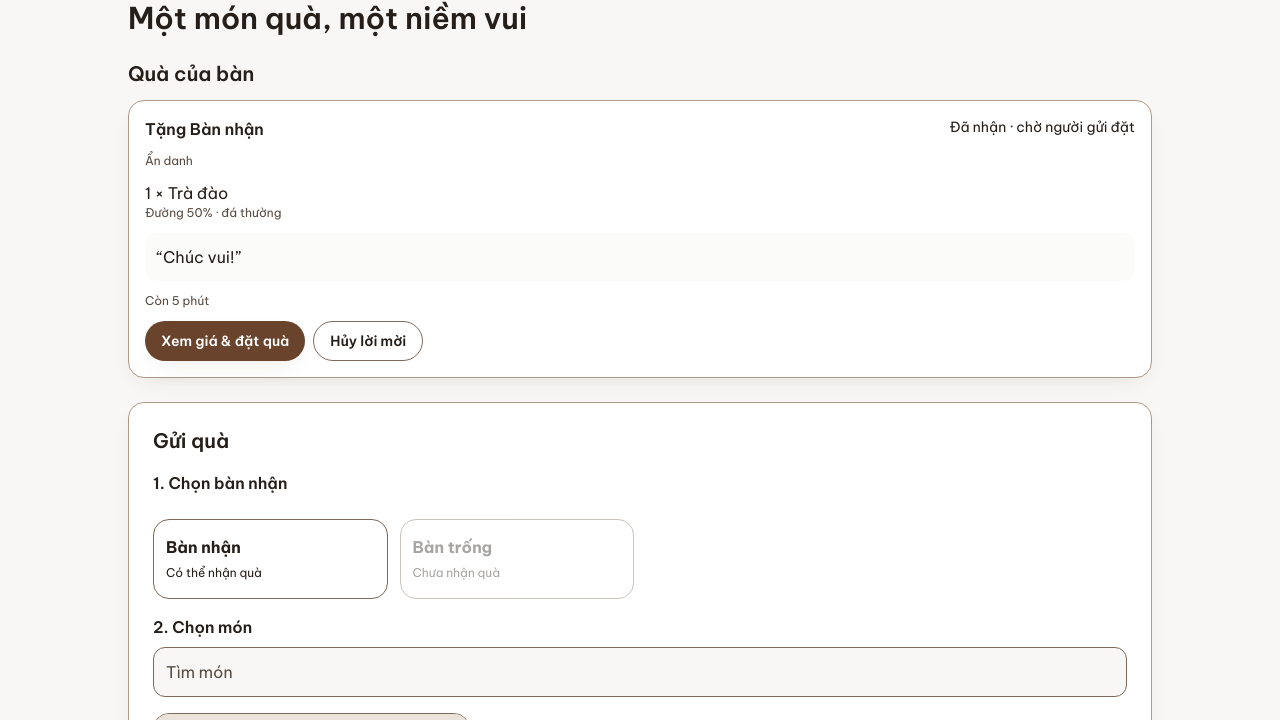
Test case: anonymous gift UI › quotes an accepted gift, displays the fresh price, and creates a sender order only after confirming it
Later steps or results of the test are not shown.
Click the button "Xem giá & đặt quà": (225, 341) [145,321,305,361]
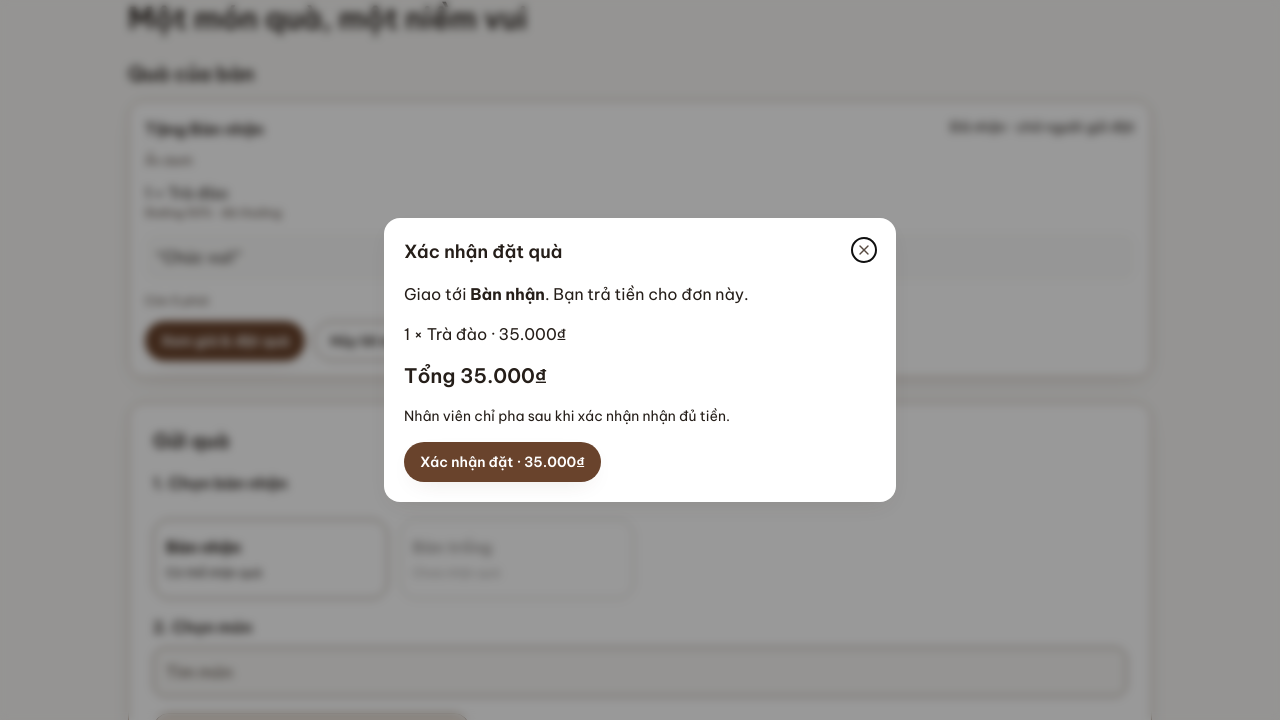
Expected: the text "Tổng 35.000₫" is shown, [404,363,547,388]
